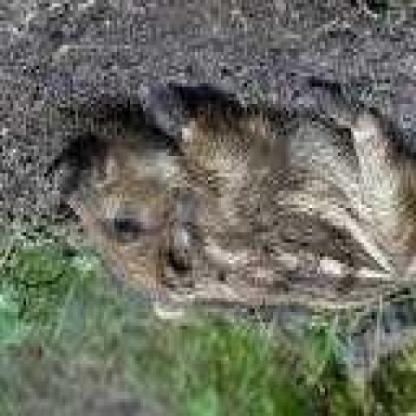boar: (49, 64, 415, 314)
